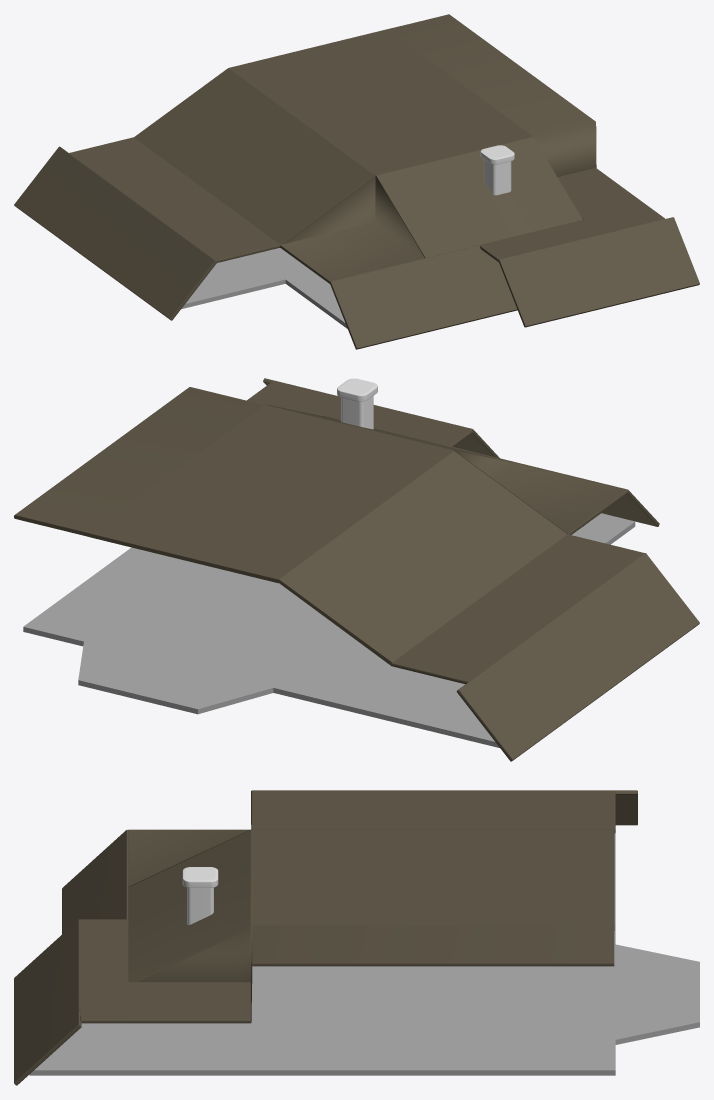
File: roof.fbx
The picture shows the model from 3 angles, top to bottom: view 1: azimuth 30°, elevation 25°; view 2: azimuth 150°, elevation 25°; view 3: azimuth 270°, elevation 25°; orthographic projection. The views are drawn at different scales.
Parts seen in each view (by area): view 1: roof1; view 2: roof1; view 3: roof1.
Boxes of the visible parts, left/top/right/bottom form: roof1: left=14, top=14, right=699, bottom=349; roof1: left=14, top=378, right=699, bottom=761; roof1: left=14, top=790, right=699, bottom=1085.
Bounding box in the file's own units: 23.09 × 5.56 × 25.56.
